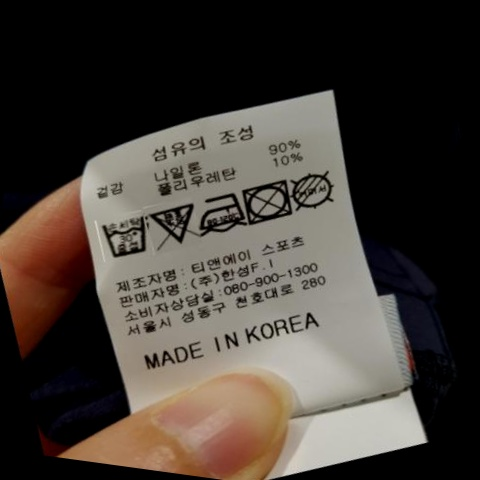DN_tumble_dry: (242, 174, 296, 233)
dry_flat_in_shade: (287, 162, 344, 222)
hand_wash: (98, 207, 154, 264)
iron_low: (198, 183, 251, 241)
non_chlorine_bleach: (150, 198, 199, 258)
